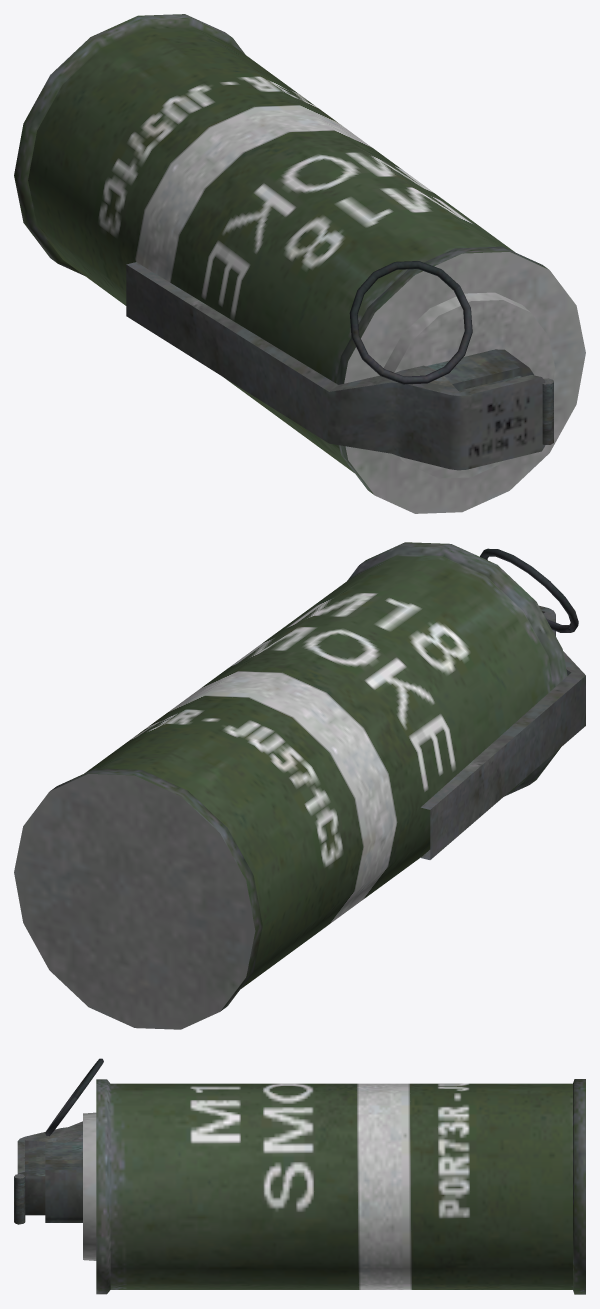
Rendered from weapon_us_smoke_grenade_LOD0.obj.
The picture shows the model from 3 angles, top to bottom: view 1: azimuth 30°, elevation 25°; view 2: azimuth 150°, elevation 25°; view 3: azimuth 270°, elevation 25°; orthographic projection. The views are drawn at different scales.
Parts seen in each view (by area): view 1: mtl_us_smoke_grenade; view 2: mtl_us_smoke_grenade; view 3: mtl_us_smoke_grenade.
Boxes of the visible parts, x1,y1,x2,y2 form: mtl_us_smoke_grenade: (14,14,585,513); mtl_us_smoke_grenade: (14,542,585,1029); mtl_us_smoke_grenade: (14,1058,585,1294).
Size of the model in its own units: 6.2 by 5.57 by 14.49.
